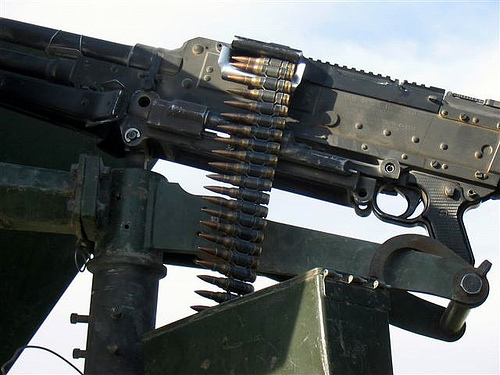rifle: (25, 23, 486, 359)
